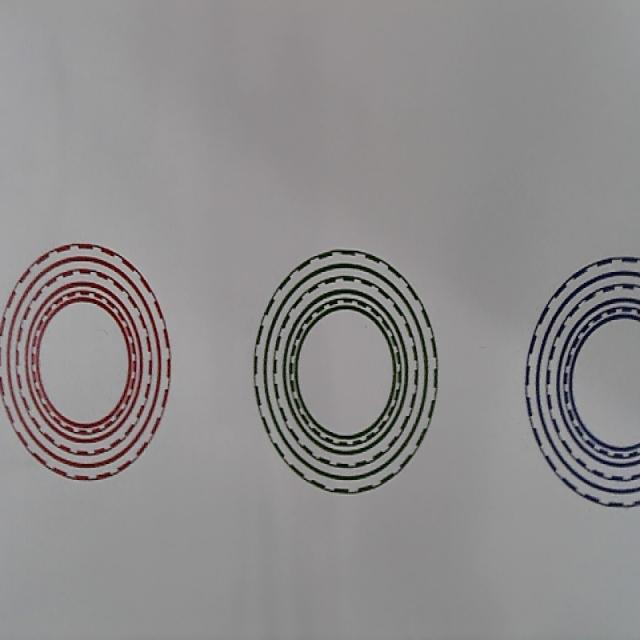g: (255, 250, 438, 497)
